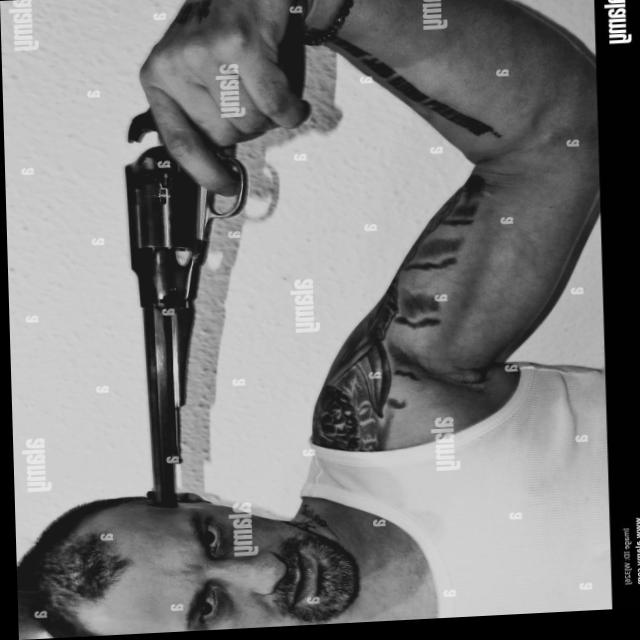handgun: (124, 146, 248, 507)
